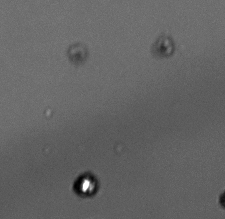Dead Cell: (154, 36, 175, 56), (68, 43, 87, 64)
Living Cell: (71, 171, 98, 197)
